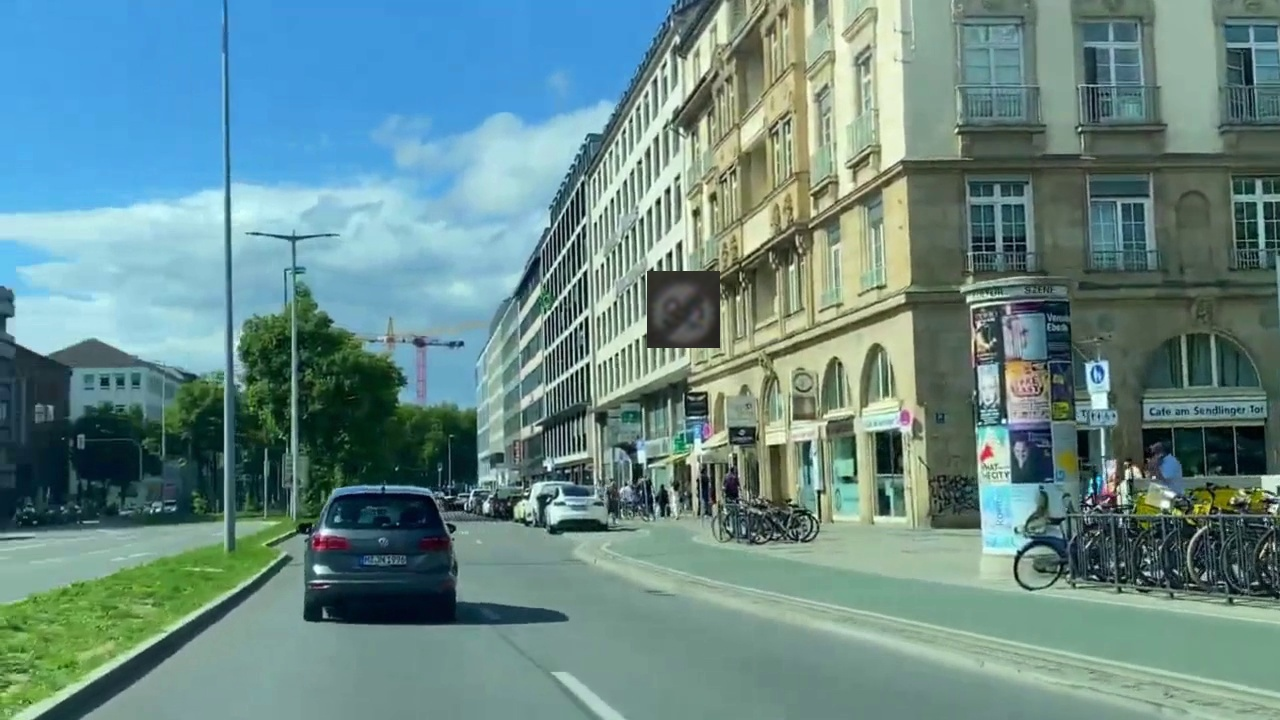End Speed 80: (647, 271, 720, 348)
